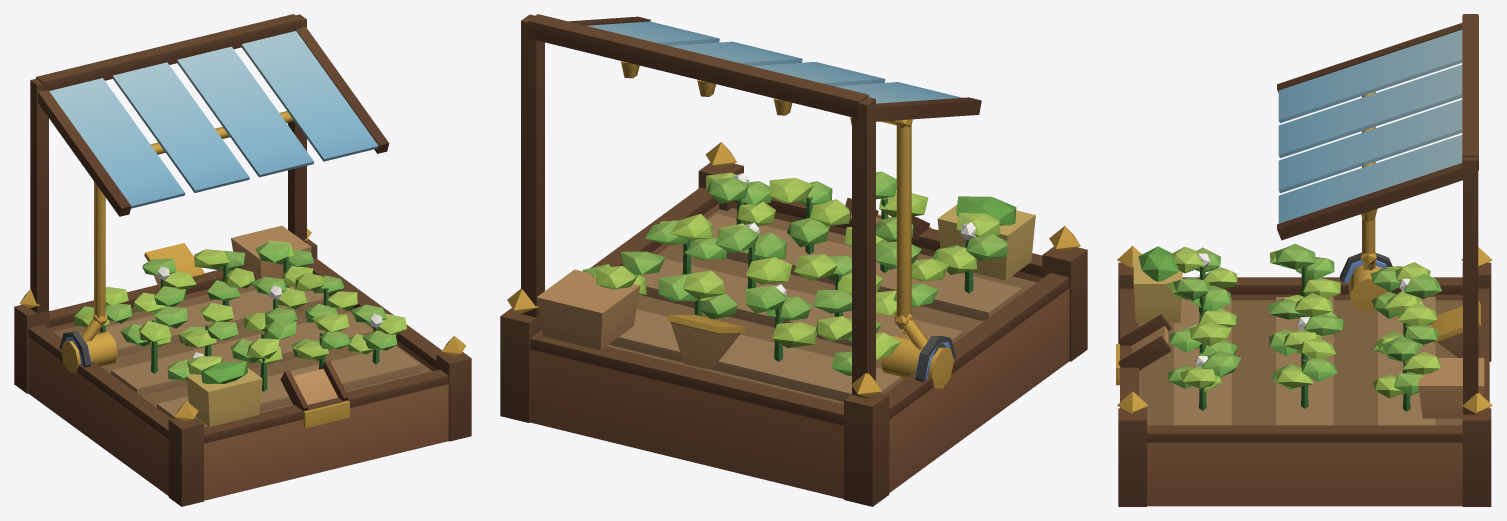
File: mach_herb_grower.glb
The picture shows the model from 3 angles, left to right: view 1: azimuth 30°, elevation 25°; view 2: azimuth 150°, elevation 25°; view 3: azimuth 270°, elevation 25°; orthographic projection. The views are drawn at different scales.
Parts seen in each view (by area): view 1: mach_herb_grower; view 2: mach_herb_grower; view 3: mach_herb_grower.
Boxes of the visible parts, <box> form: mach_herb_grower: <box>14,14,471,506</box>; mach_herb_grower: <box>500,14,1087,506</box>; mach_herb_grower: <box>1116,14,1492,506</box>.
Size of the model in its own units: 5.9 by 5.93 by 5.91.
Materials: 1 (1 with a texture image).
